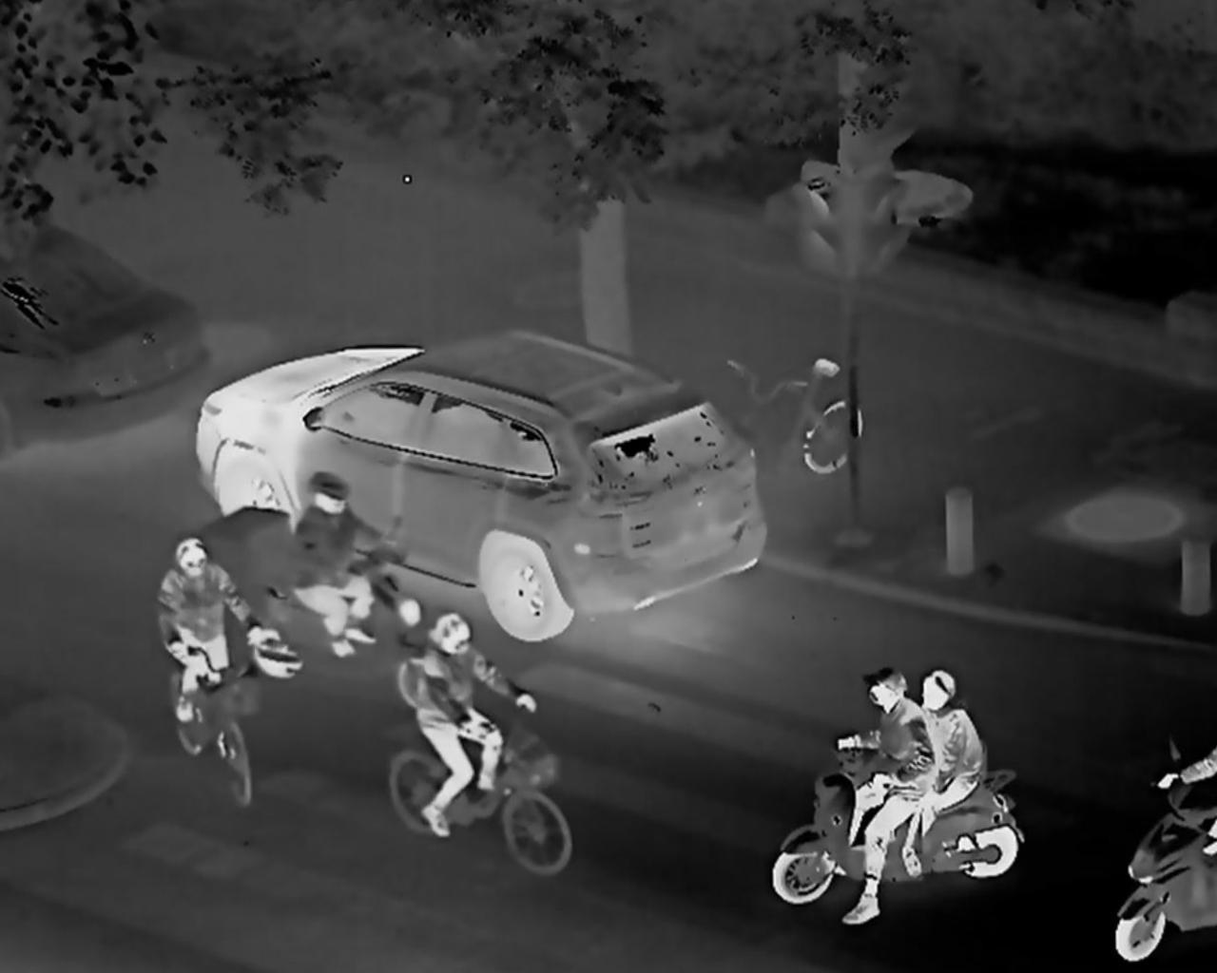person: (412, 610, 537, 838), (826, 669, 933, 921), (152, 536, 279, 747), (901, 666, 986, 886), (283, 471, 382, 658)
